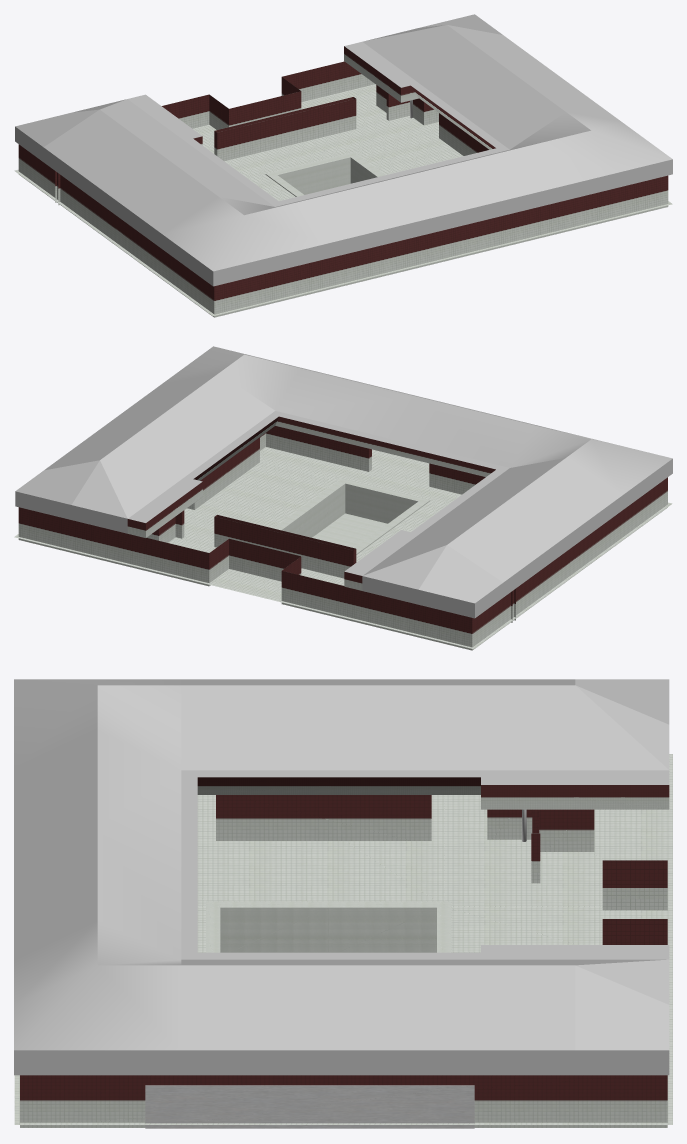
The model's file is PoolPartyMap (2).fbx.
The picture shows the model from 3 angles, top to bottom: view 1: azimuth 30°, elevation 25°; view 2: azimuth 150°, elevation 25°; view 3: azimuth 270°, elevation 25°; orthographic projection. The views are drawn at different scales.
Visible parts, largest first — view 1: Roof_Bottom, Wall-OuterRing, Roof_Top, Floor, Wall-North, Pool, Roof_Side, Wall-NorthEast, Wall-East; view 2: Roof_Bottom, Roof_Top, Wall-OuterRing, Floor, Pool, Roof_Side, Wall-North, Wall-SouthEast, Wall-East, Wall-SouthWest, Wall-NorthEast; view 3: Roof_Bottom, Roof_Top, Floor, Wall-OuterRing, Lockers-East, Pool, Wall-West, Roof_Side, Wall-NorthWest.
Part boxes in pixels (x1=…): Roof_Bottom: x1=15, y1=14, x2=672, y2=286; Wall-OuterRing: x1=18, y1=61, x2=668, y2=317; Roof_Top: x1=72, y1=25, x2=590, y2=215; Floor: x1=14, y1=84, x2=672, y2=316; Wall-North: x1=214, y1=97, x2=356, y2=161; Pool: x1=265, y1=152, x2=384, y2=196; Roof_Side: x1=193, y1=46, x2=495, y2=149; Wall-NorthEast: x1=376, y1=85, x2=438, y2=125; Wall-East: x1=439, y1=113, x2=488, y2=155; Roof_Bottom: x1=15, y1=346, x2=672, y2=618; Roof_Top: x1=72, y1=354, x2=590, y2=589; Wall-OuterRing: x1=18, y1=477, x2=667, y2=650; Floor: x1=14, y1=447, x2=672, y2=649; Pool: x1=274, y1=478, x2=430, y2=554; Roof_Side: x1=127, y1=416, x2=495, y2=590; Wall-North: x1=214, y1=514, x2=356, y2=578; Wall-SouthEast: x1=260, y1=426, x2=371, y2=471; Wall-East: x1=187, y1=437, x2=259, y2=509; Wall-SouthWest: x1=429, y1=463, x2=485, y2=494; Wall-NorthEast: x1=147, y1=510, x2=184, y2=542; Roof_Bottom: x1=14, y1=679, x2=669, y2=1075; Roof_Top: x1=97, y1=685, x2=669, y2=1004; Floor: x1=14, y1=754, x2=672, y2=1124; Wall-OuterRing: x1=20, y1=860, x2=667, y2=1127; Lockers-East: x1=145, y1=1085, x2=474, y2=1128; Pool: x1=206, y1=901, x2=451, y2=952; Wall-West: x1=216, y1=795, x2=431, y2=840; Roof_Side: x1=197, y1=777, x2=669, y2=809; Wall-NorthWest: x1=487, y1=809, x2=594, y2=851.
Bounding box in the file's own units: 819 × 167 × 614.
